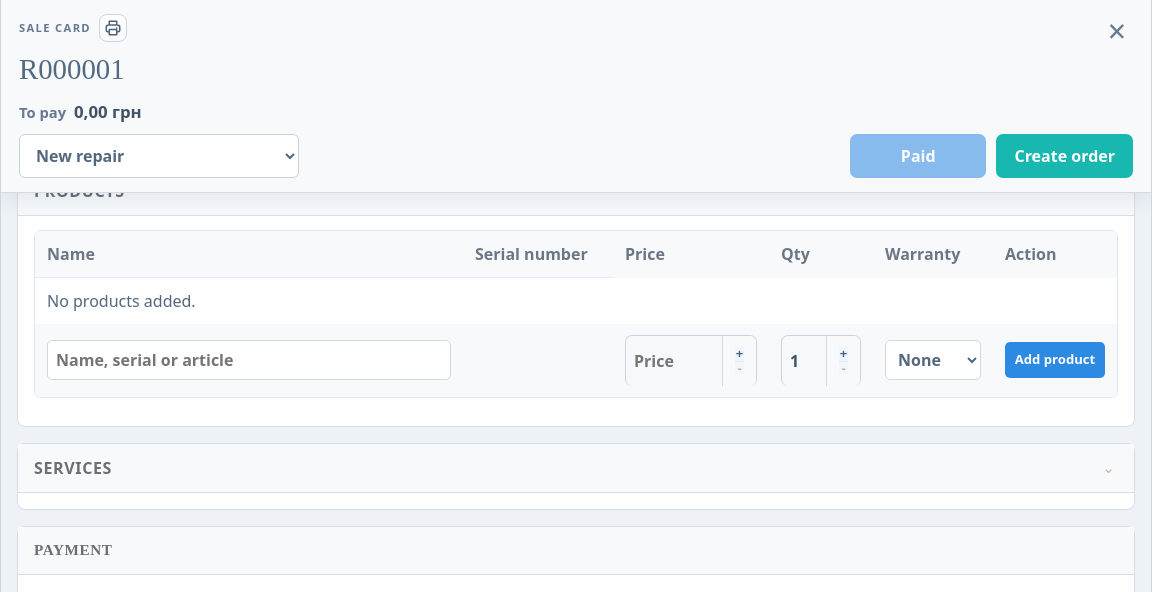
Test: OrderDetailCard product entry › renders retail/wholesale toggles in the price column header when adding a product
In the field with placeholder "Name, serial or article": (249, 360) [47,340,451,380], type "Videx"
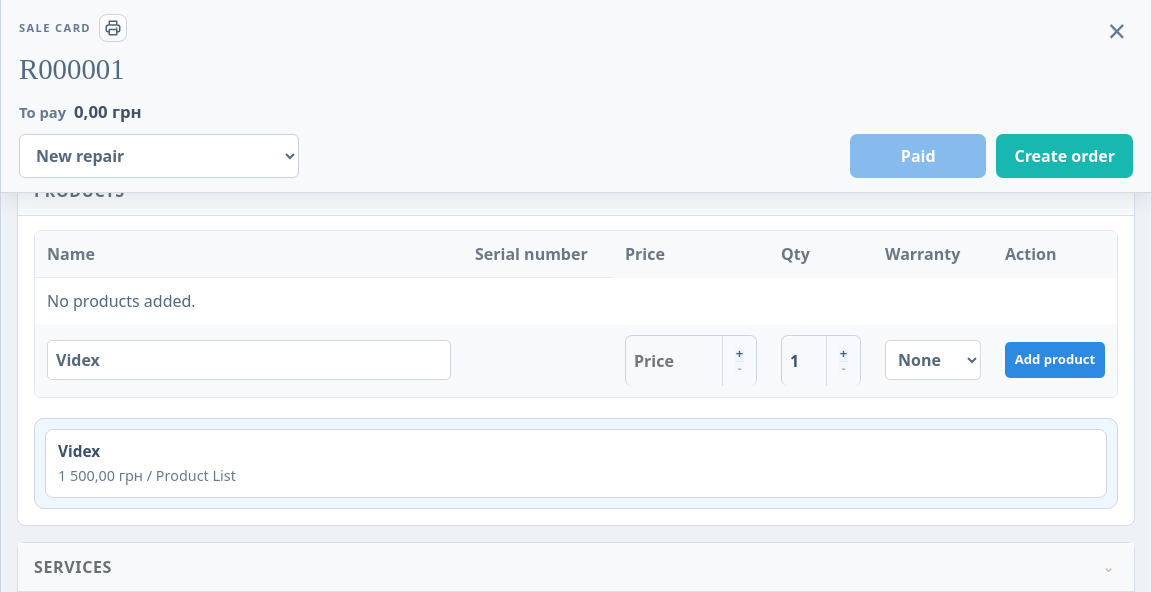
Expected: the button "Videx 1 500,00 грн / Product List" is shown
Click the button "Videx 1 500,00 грн / Product List": (79, 451) [54,434,1098,492]
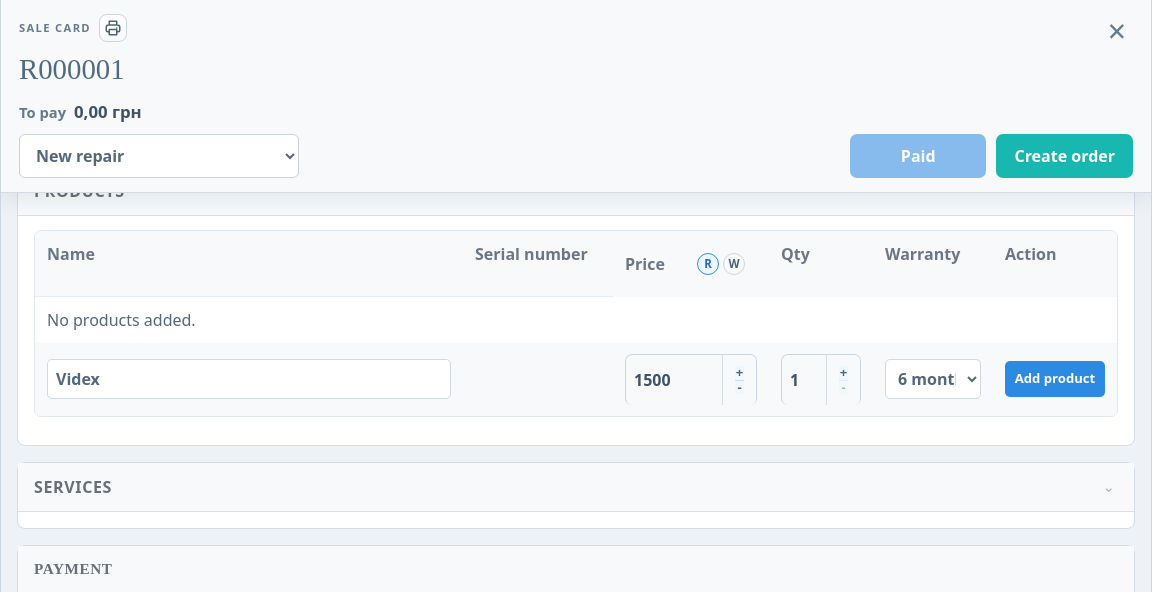
Expected: the element showing "R W" is shown, [685,242,757,286]
